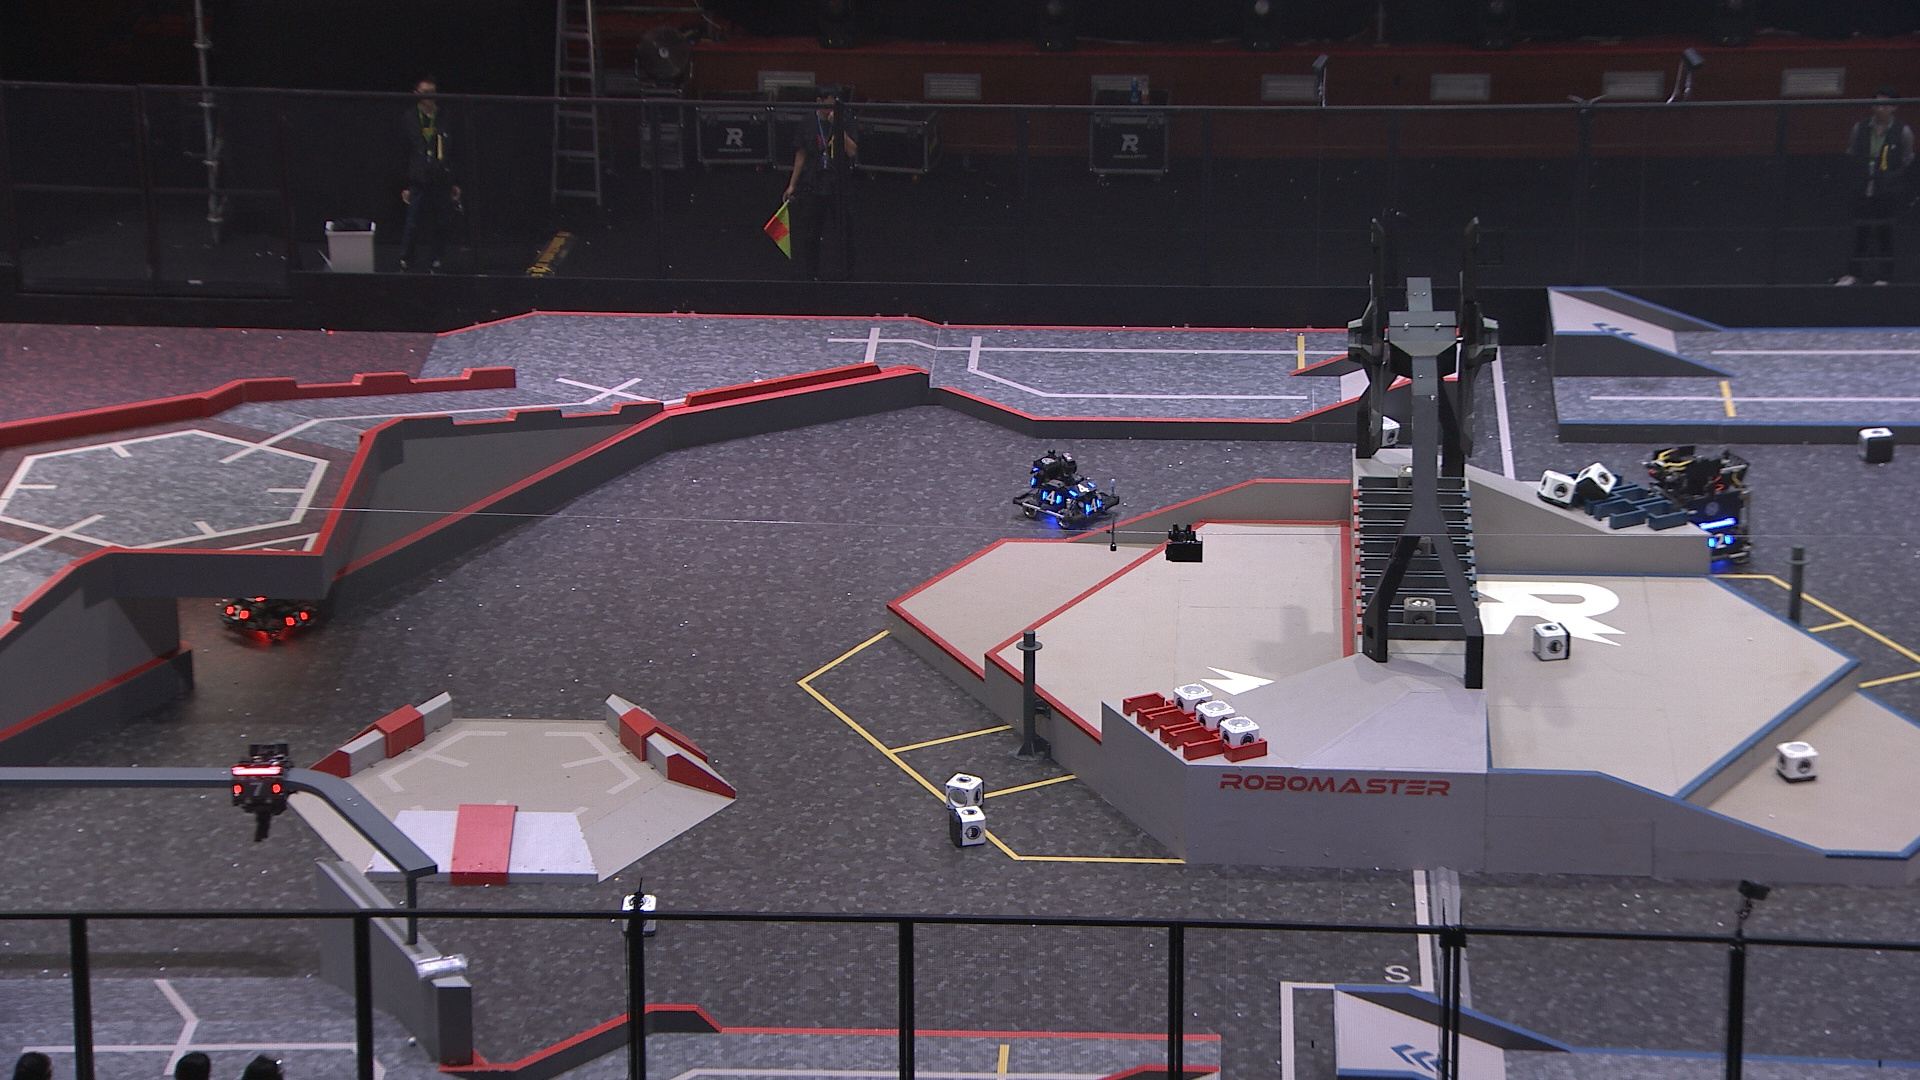armor: (231, 781, 284, 802), (224, 603, 251, 622), (1067, 479, 1096, 496), (1708, 531, 1733, 551), (286, 609, 313, 626), (1084, 496, 1102, 516), (1043, 489, 1063, 505)
car: (1642, 439, 1756, 568), (216, 541, 320, 647), (1015, 447, 1122, 531)
watcher: (225, 741, 291, 841)
